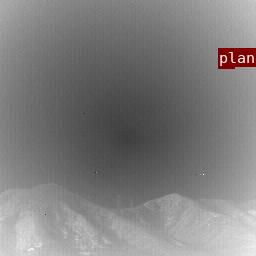plane: (218, 48, 234, 68)
